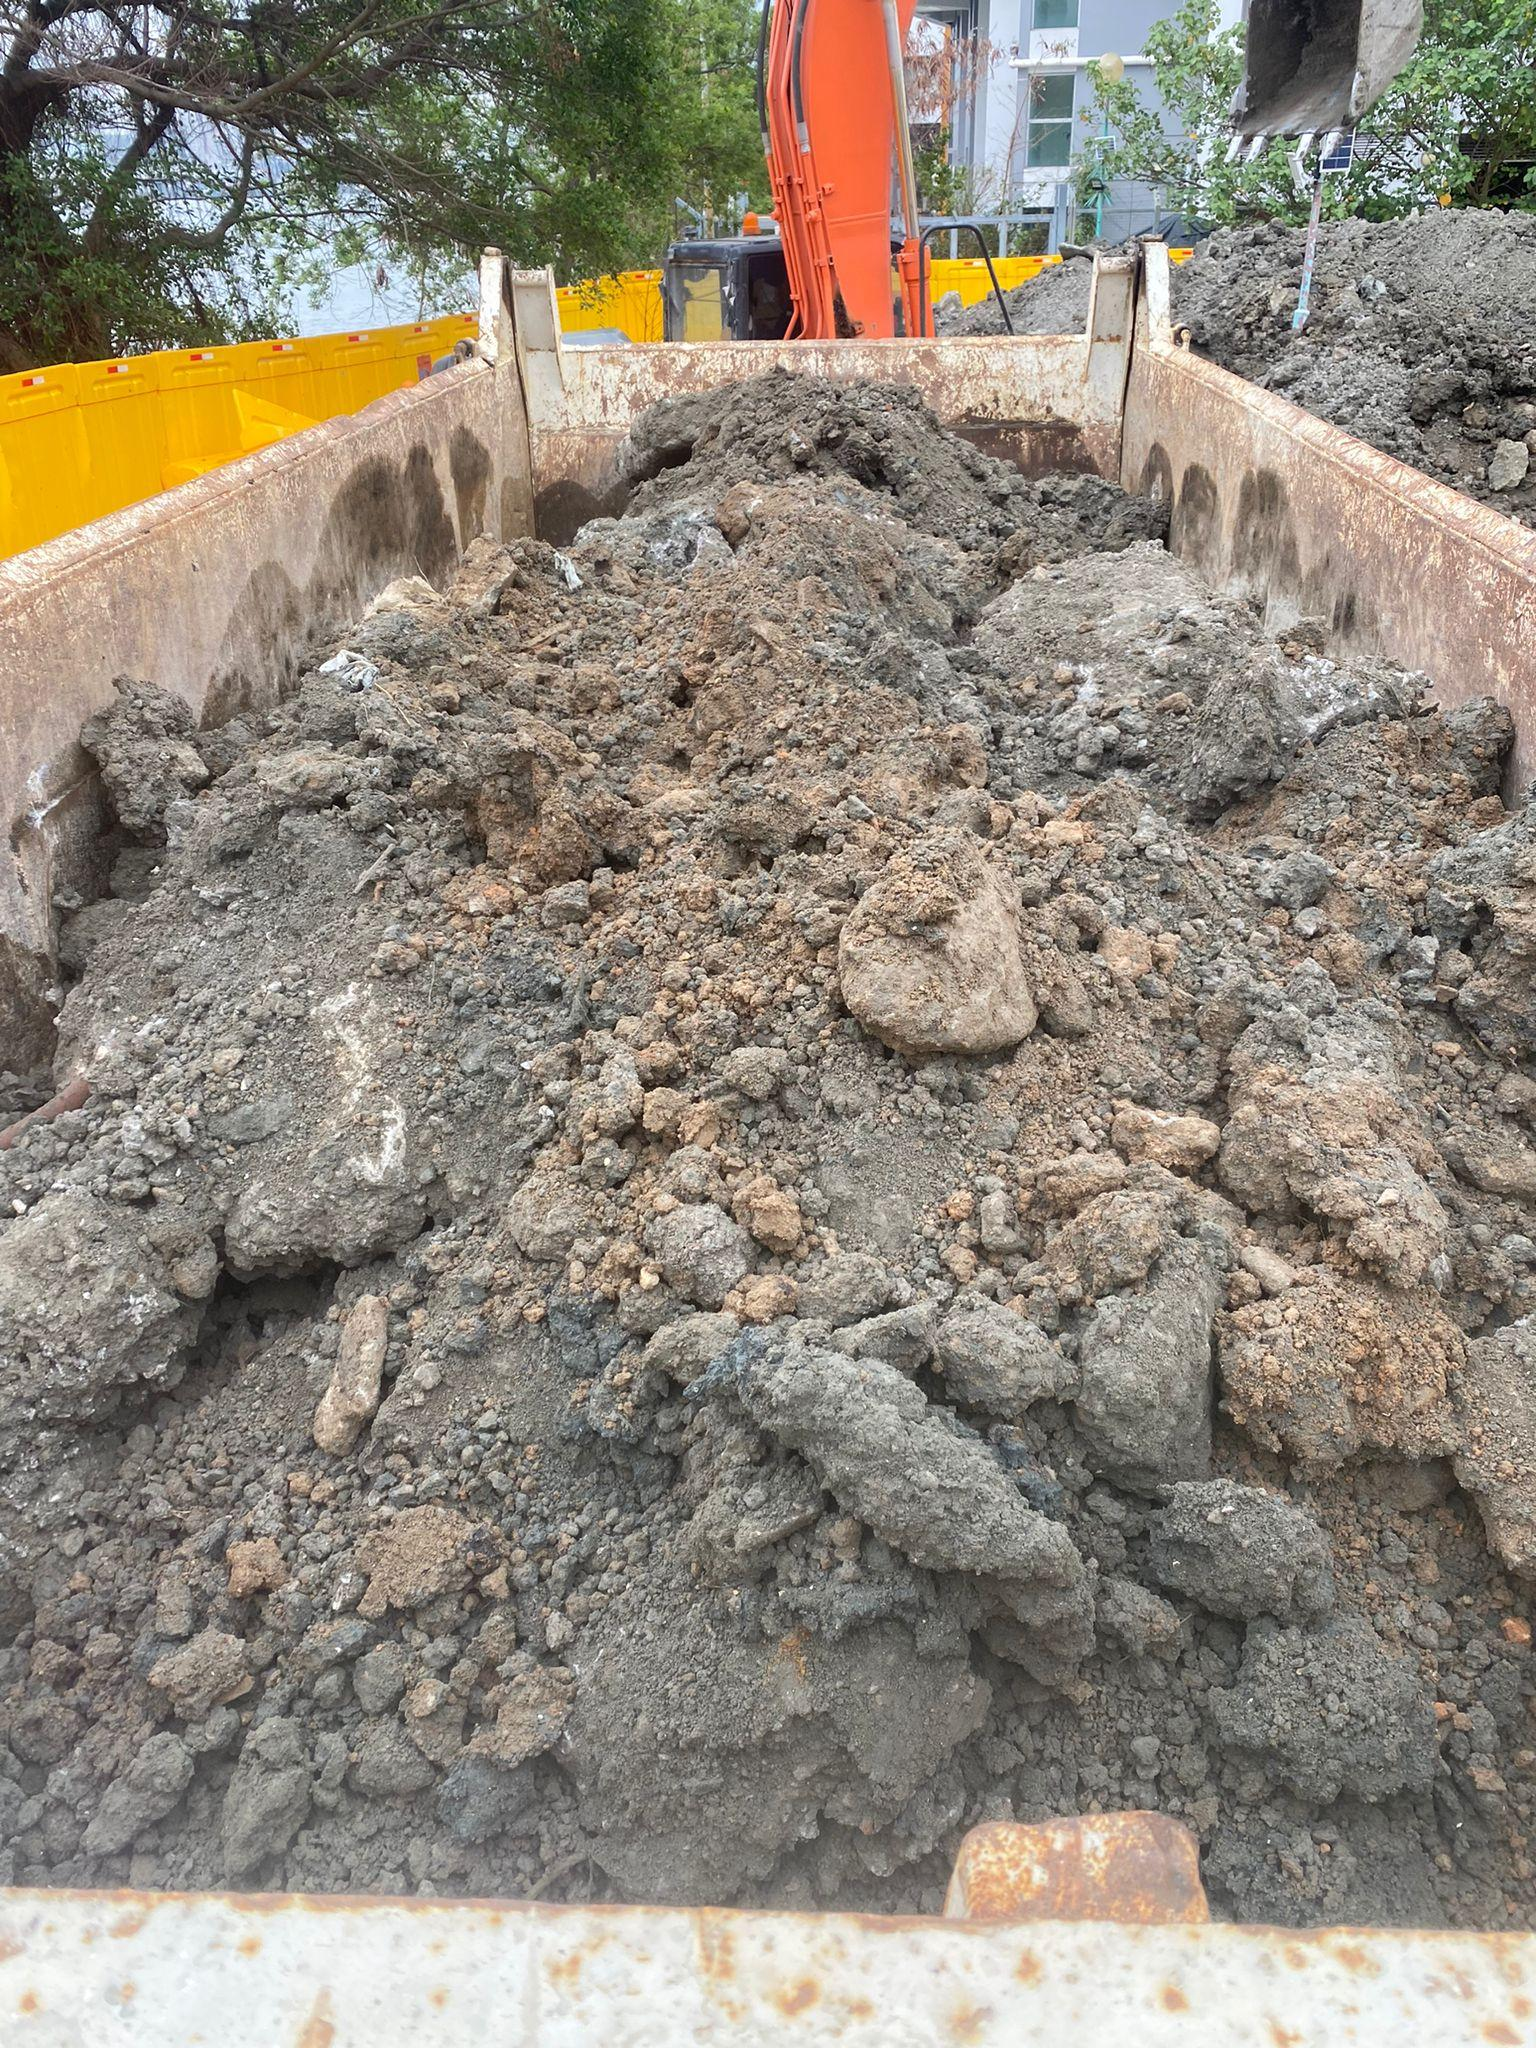dirt: (1, 359, 1533, 1928)
stone: (835, 826, 1039, 1057), (941, 1807, 1209, 1924)
